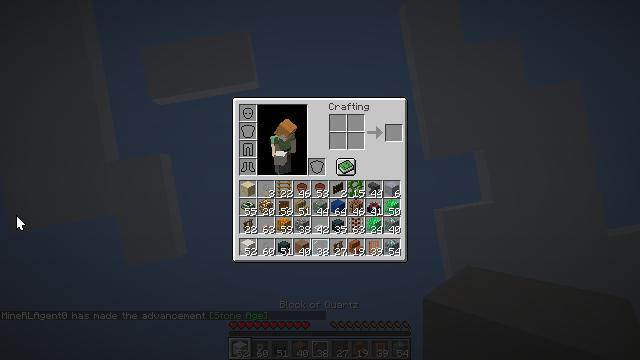cursor: (16, 215, 26, 231)
